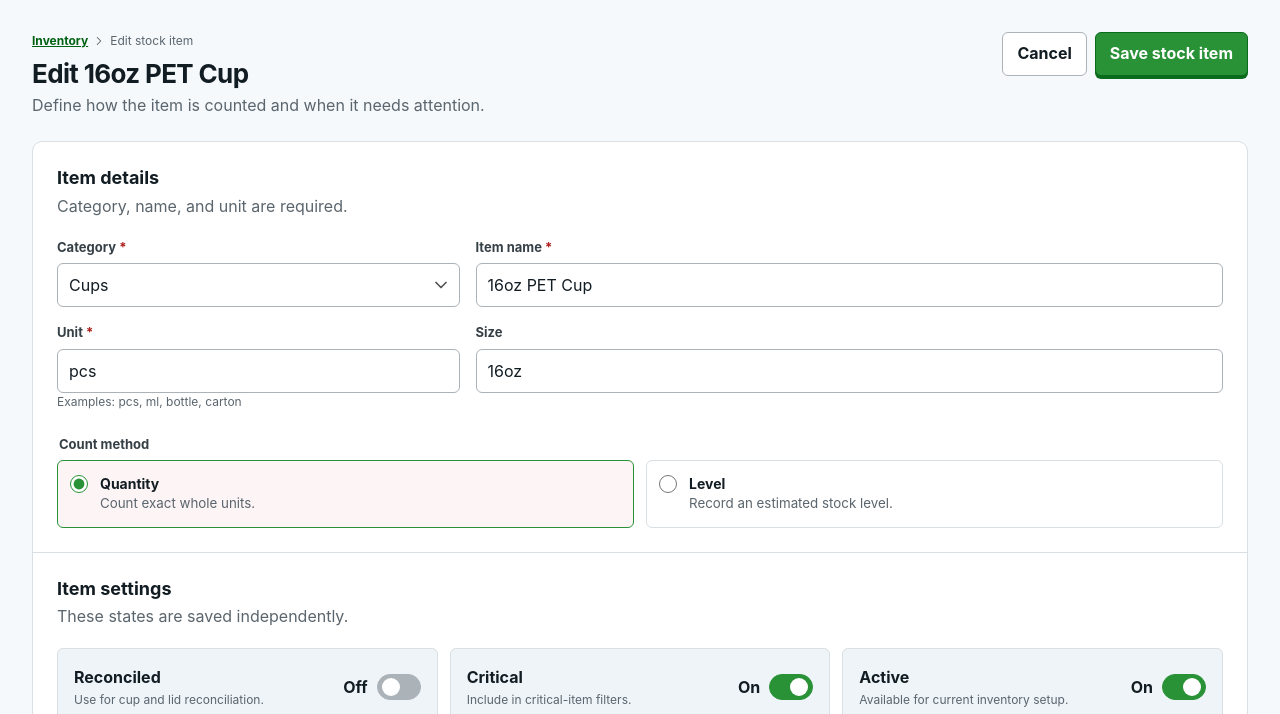
Test: inventory management pages › blocks save and identifies an unset level day without clearing selections
Expected: the heading "Edit 16oz PET Cup" is shown, [32,58,248,89]
Click the radio button labelled "Level Record an estimated stock level.". click: point(668, 484)
box: [659,475,677,493]
(page scrolled)
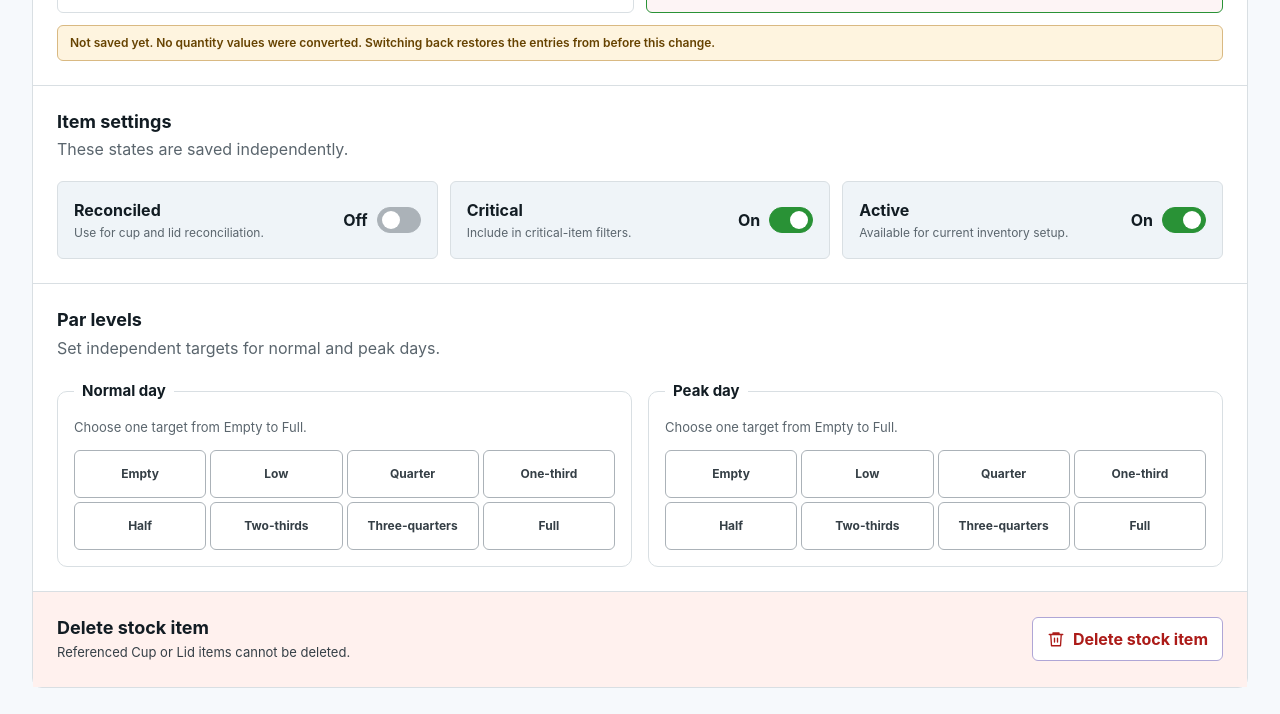
Click the radio button labelled "Quarter" below "Normal day". click: point(413, 474)
box: [346,450,479,498]
(page scrolled)
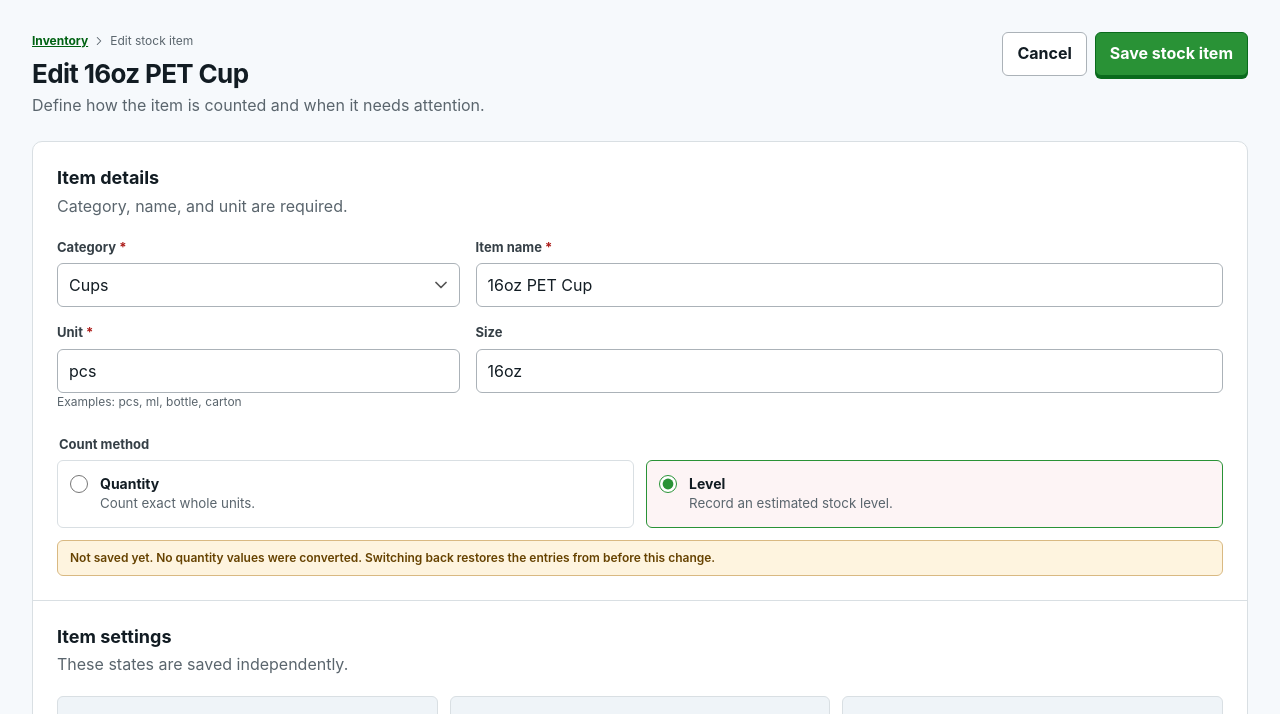
Click the button "Save stock item". click: point(1171, 54)
box: [1095,32,1248,76]
(page scrolled)
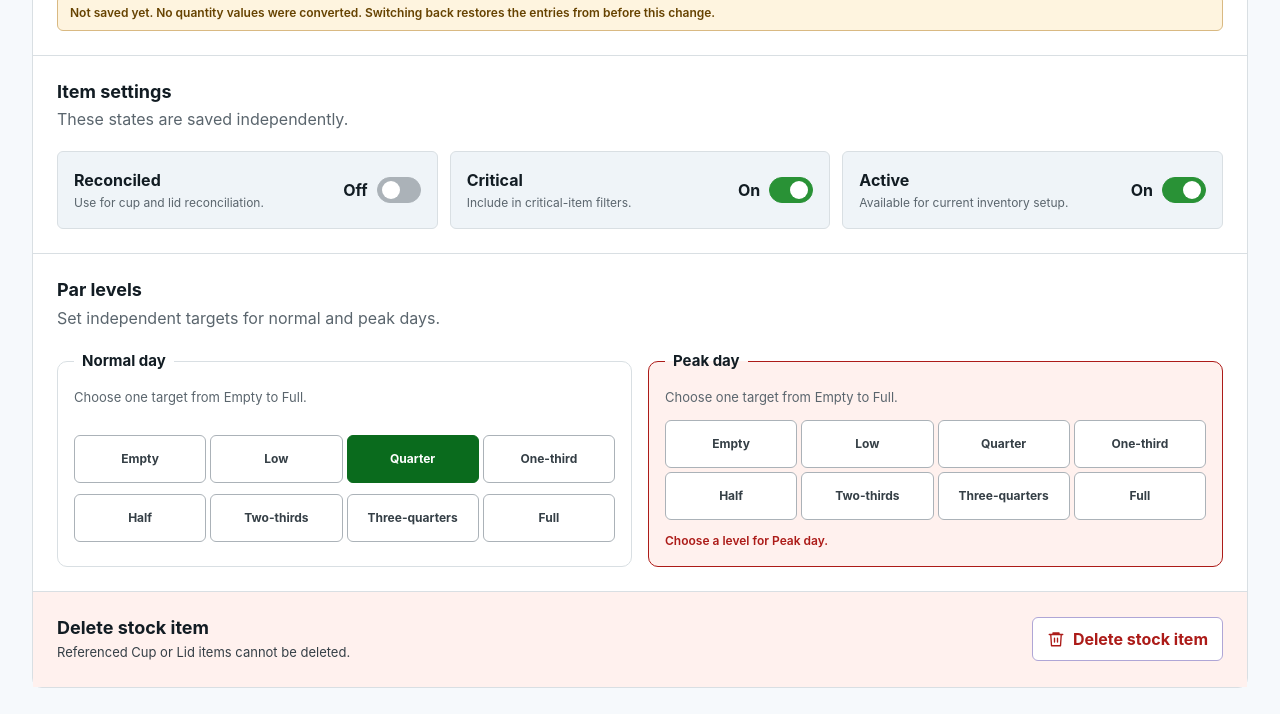
Now the radio button labelled "Quarter" below "Normal day" is checked, box [346,435,479,483]
Now the text "Choose a level for Peak day." is shown, box [665,533,828,548]
